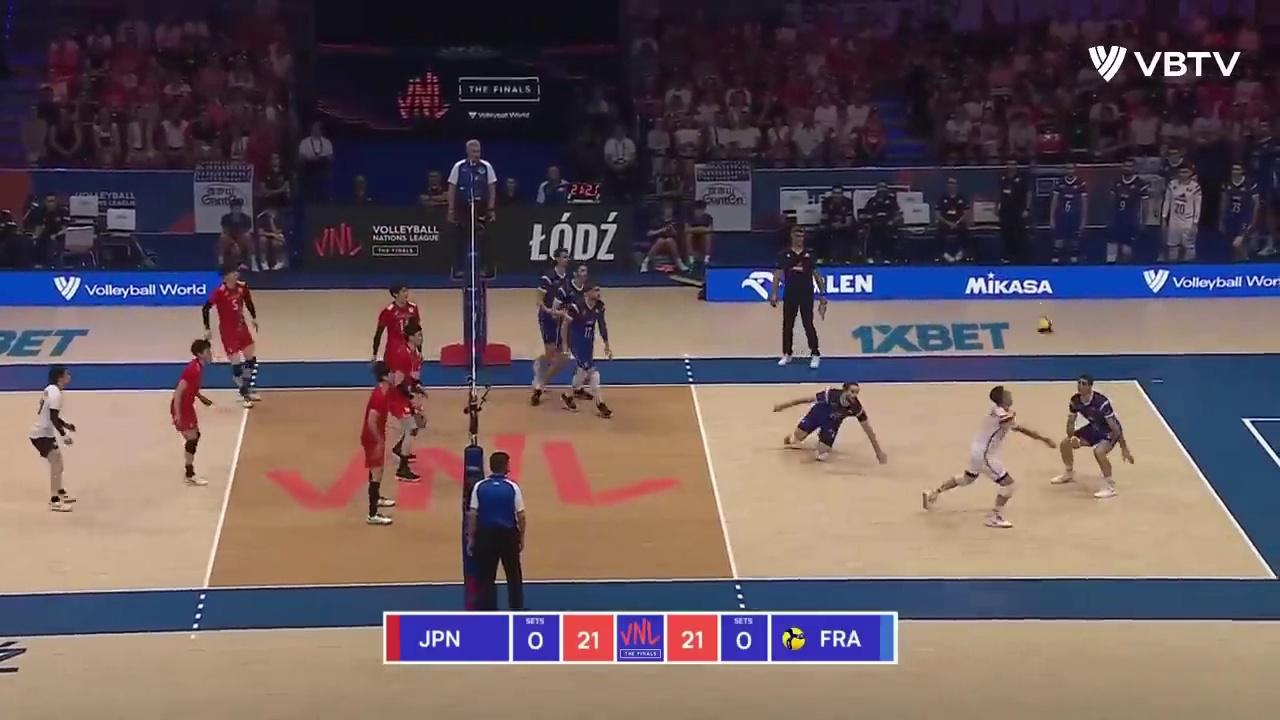ball: (1035, 314, 1057, 337)
